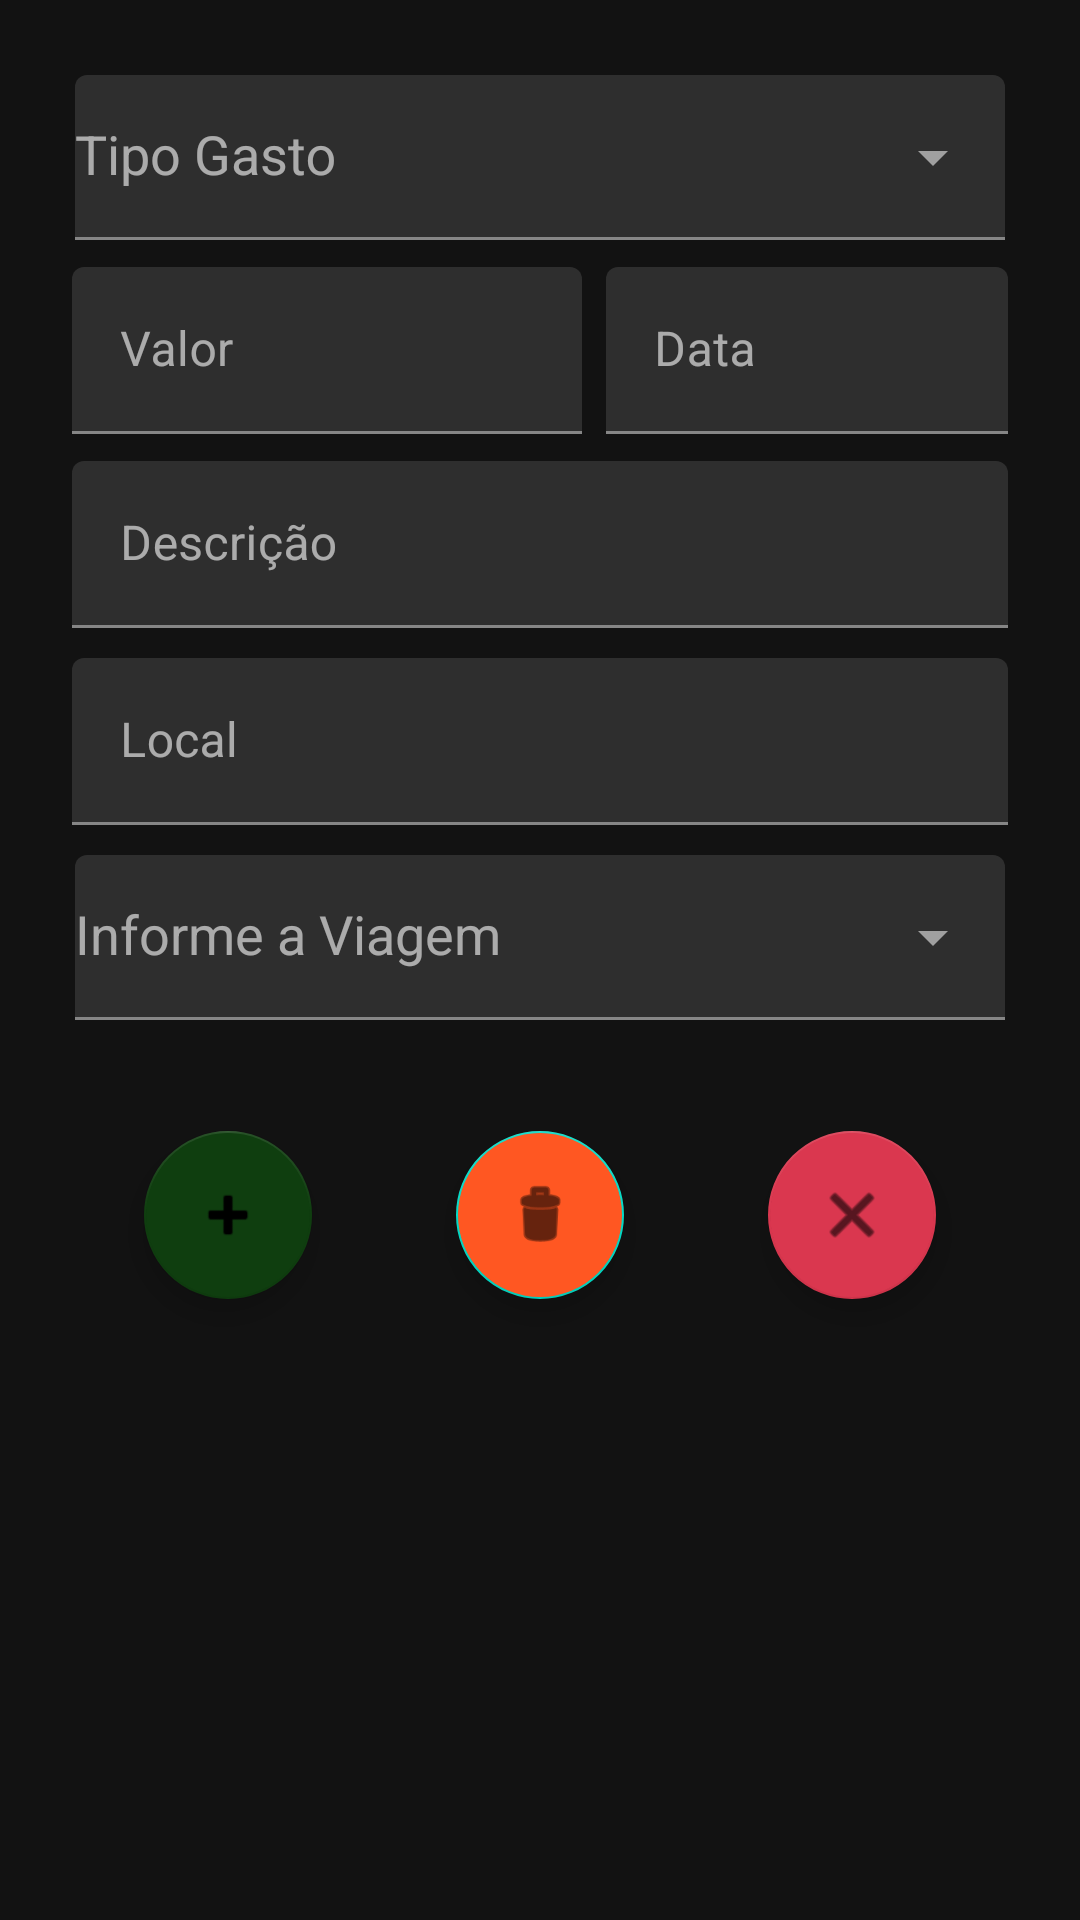

Where icons sit on this 1080x1920 app screen, as (x1, y1, x2, y2):
add: (144, 1131, 312, 1299)
close clear cancel: (768, 1131, 936, 1299)
delete: (456, 1131, 624, 1299)
